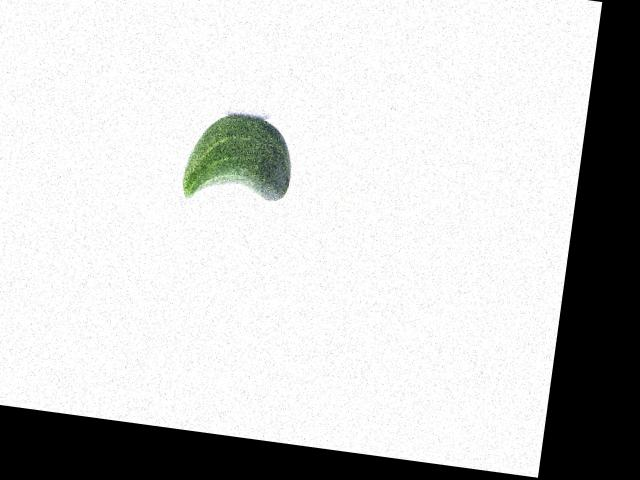cucumber: (179, 108, 297, 211)
